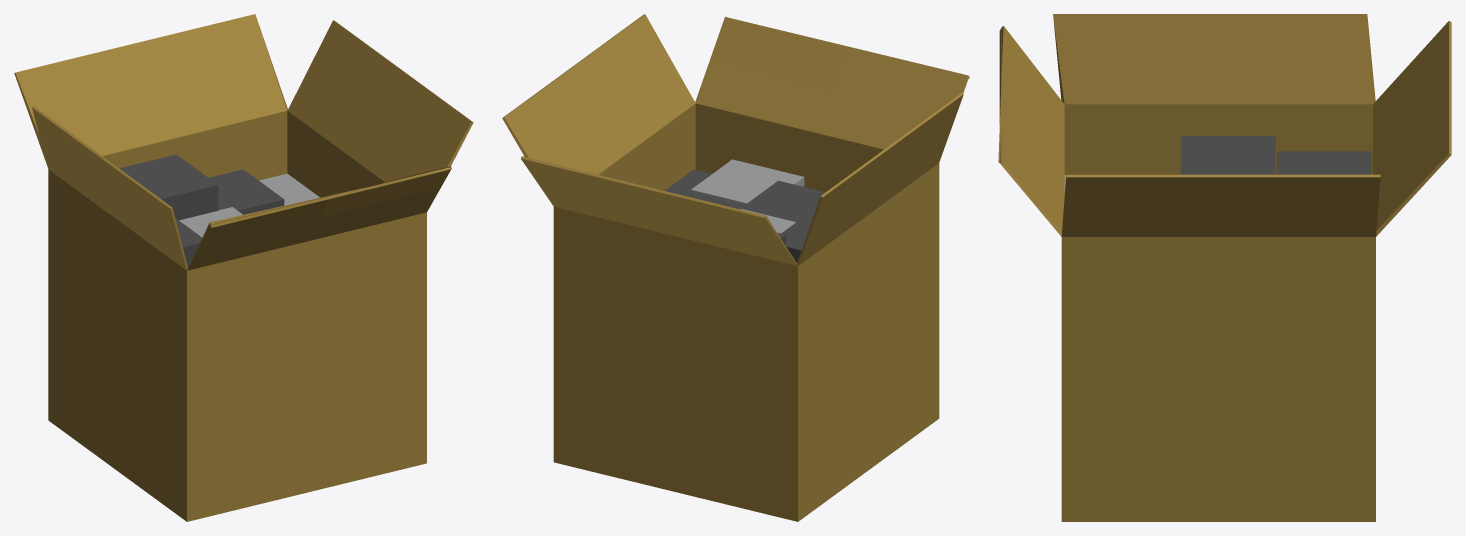
File: BoxOpen.fbx
3 views of the same model, side by side, from view 1: azimuth 30°, elevation 25°; view 2: azimuth 150°, elevation 25°; view 3: azimuth 270°, elevation 25° (orthographic). The views are drawn at different scales.
Parts seen in each view (by area): view 1: Куб, Куб.002, Куб.003, Куб.008, Куб.004, Куб.001; view 2: Куб, Куб.010, Куб.006, Куб.001, Куб.011; view 3: Куб, Куб.001, Куб.002.
Part boxes in pixels (bbox=[...]): Куб: bbox=[14, 14, 473, 521]; Куб.002: bbox=[119, 154, 218, 220]; Куб.003: bbox=[208, 169, 284, 214]; Куб.008: bbox=[259, 173, 319, 205]; Куб.004: bbox=[179, 207, 242, 237]; Куб.001: bbox=[175, 218, 201, 267]; Куб: bbox=[502, 14, 969, 521]; Куб.010: bbox=[691, 159, 804, 205]; Куб.006: bbox=[739, 180, 825, 222]; Куб.001: bbox=[781, 211, 814, 262]; Куб.011: bbox=[665, 169, 711, 195]; Куб: bbox=[998, 14, 1451, 521]; Куб.001: bbox=[1180, 136, 1275, 174]; Куб.002: bbox=[1277, 151, 1371, 174].
Size of the model in its own units: 258 by 262 by 288.
